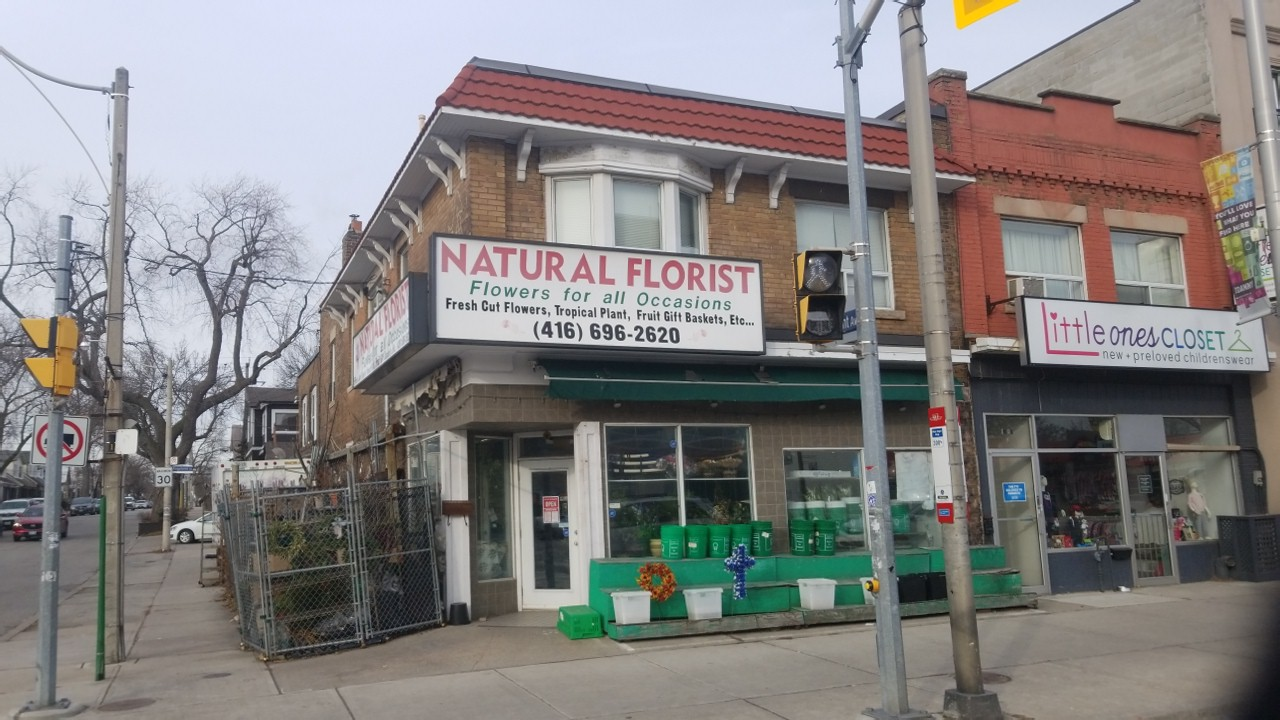light: (785, 242, 856, 344)
